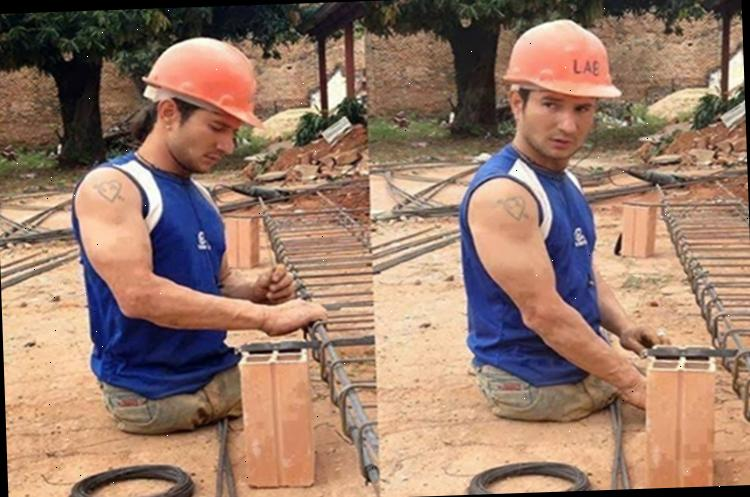helmet: (136, 34, 266, 132), (496, 14, 623, 104)
no_wear: (72, 170, 243, 382), (467, 168, 606, 380)
